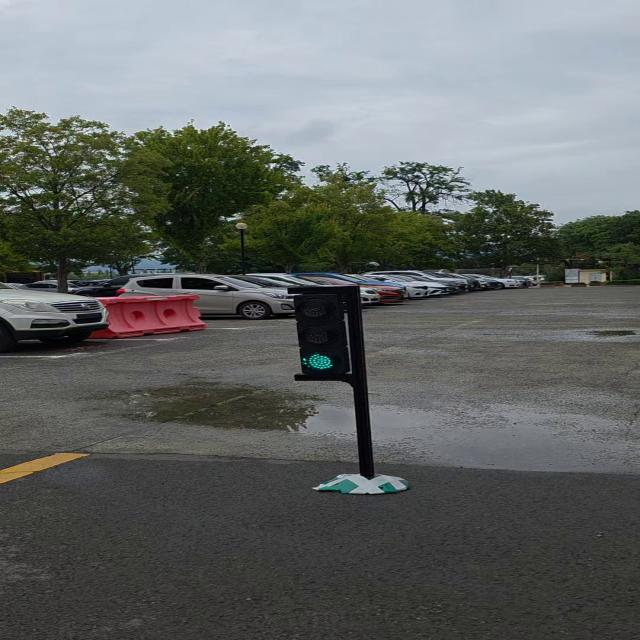green: (294, 288, 358, 378)
